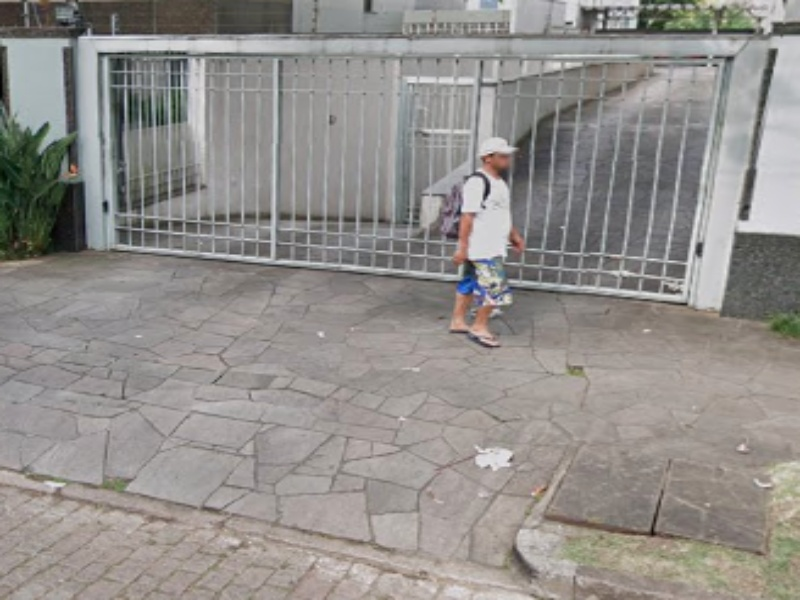g41: (6, 386, 511, 600)
